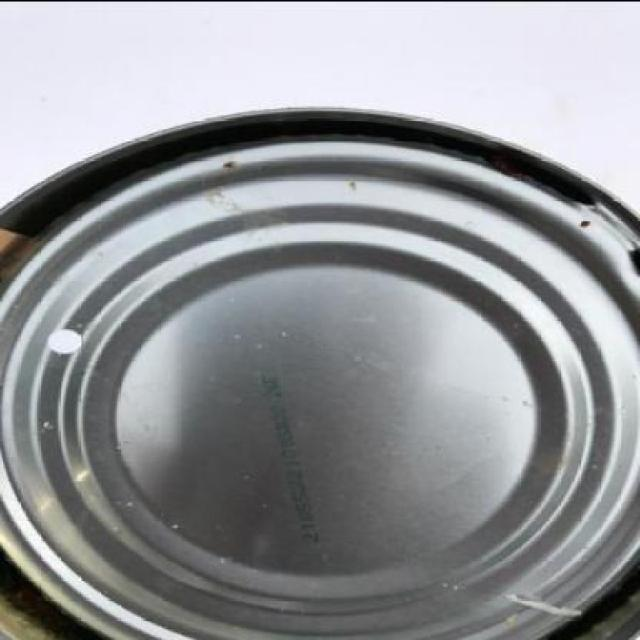METAL: (1, 99, 640, 638)
